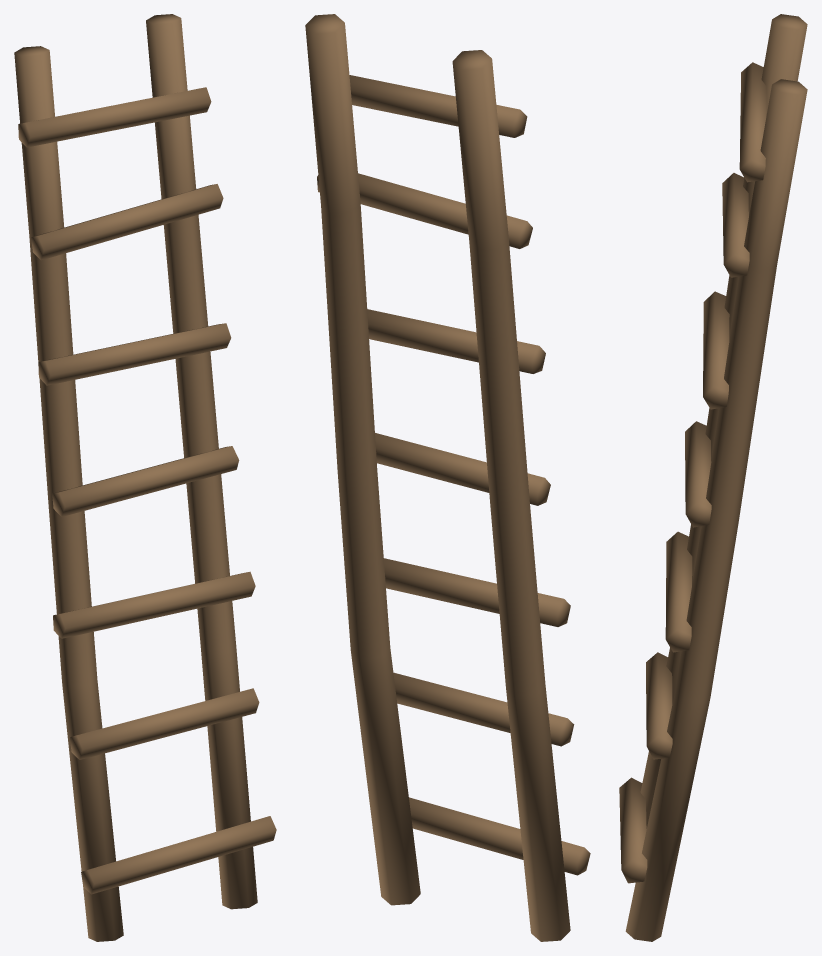
The model's file is rpgpp_lt_ladder_01.glb.
3 renders of one model, left to right at view 1: azimuth 30°, elevation 25°; view 2: azimuth 150°, elevation 25°; view 3: azimuth 270°, elevation 25°, orthographic. The views are drawn at different scales.
Parts seen in each view (by area): view 1: rpgpp_lt_ladder_01; view 2: rpgpp_lt_ladder_01; view 3: rpgpp_lt_ladder_01.
Boxes of the visible parts, x1,y1,x2,y2 form: rpgpp_lt_ladder_01: (14,14,276,941); rpgpp_lt_ladder_01: (305,14,590,941); rpgpp_lt_ladder_01: (619,14,807,941).
Size of the model in its own units: 0.7113 by 2.99 by 0.6001.
1 material, 1 textured.
